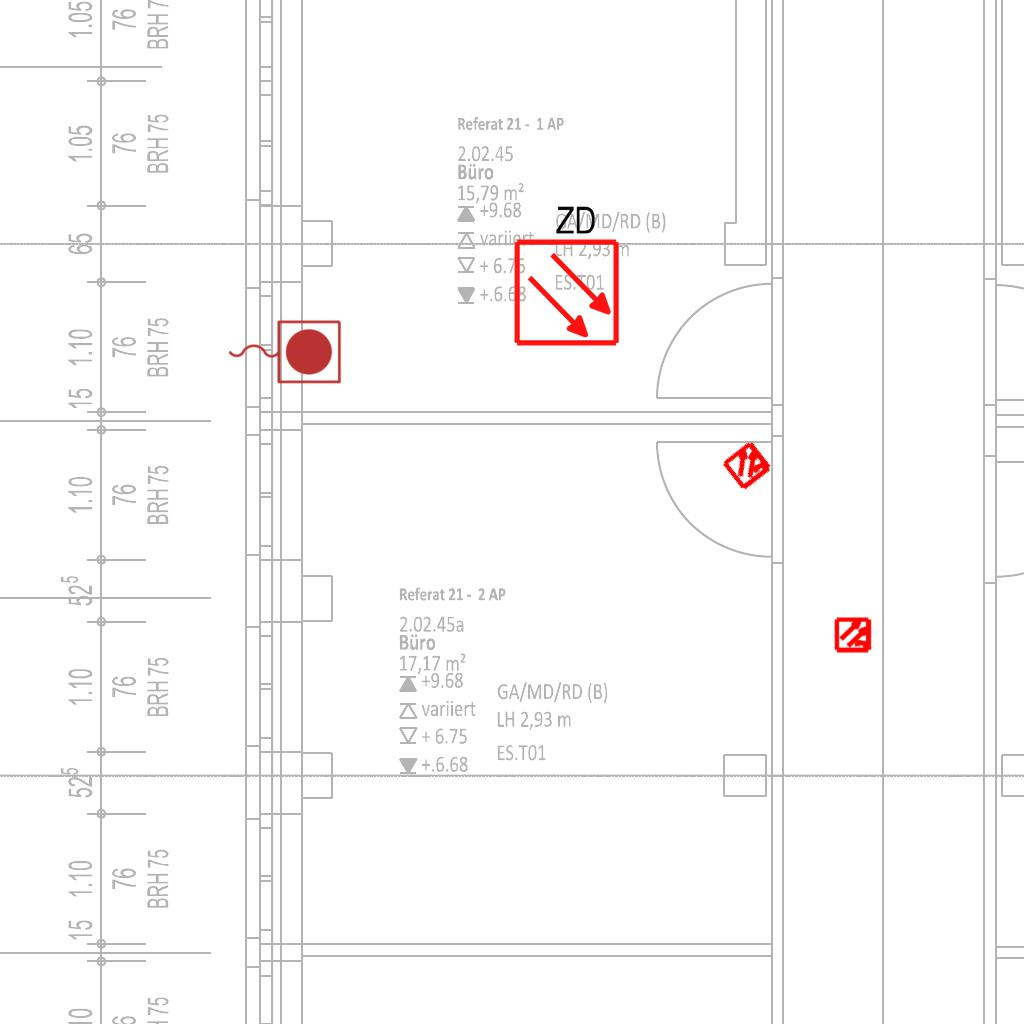OT_Multisensormelder_(Kombination_RMO_WMD): (708, 425, 788, 505), (826, 607, 882, 663)
ZD_Melder_in_Zwischendecke_mit_Revisionsoeffnung_mind_40_x_40_cm: (508, 199, 622, 348)
Zugtaster: (223, 315, 345, 387)
